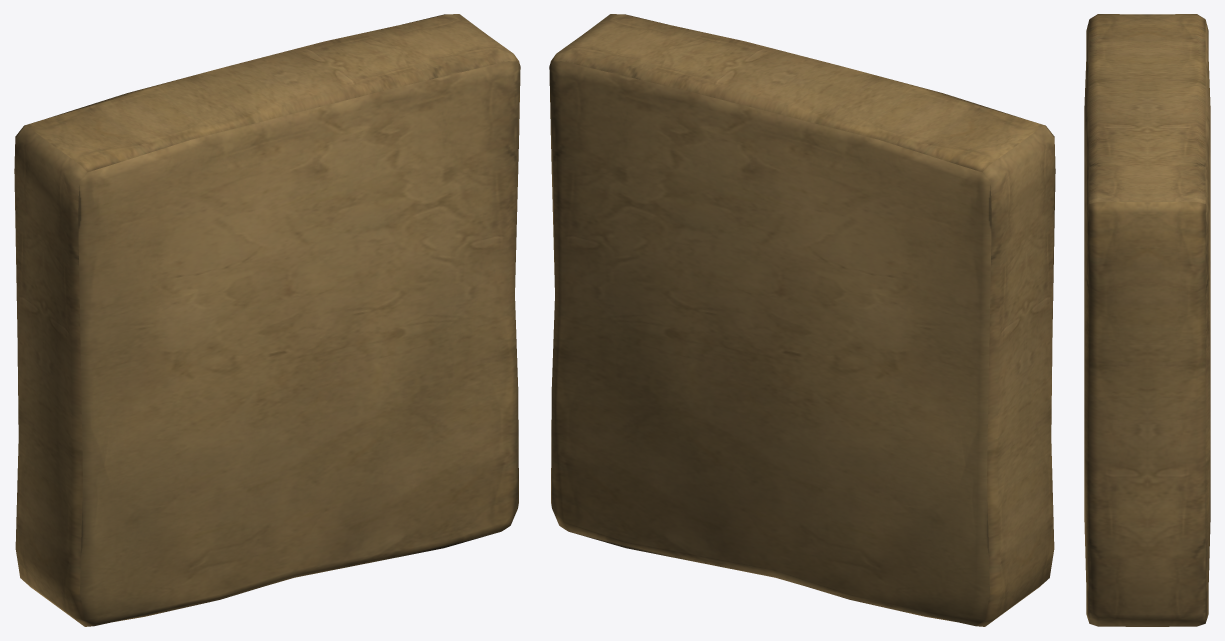
Rendered from m_StoneDoor.FBX.
3 views of the same model, side by side, from view 1: azimuth 30°, elevation 25°; view 2: azimuth 150°, elevation 25°; view 3: azimuth 270°, elevation 25° (orthographic). The views are drawn at different scales.
Visible parts, largest first — view 1: Base_Ceiling020; view 2: Base_Ceiling020; view 3: Base_Ceiling020.
Boxes of the visible parts, x1=… form: Base_Ceiling020: x1=14, y1=14, x2=520, y2=626; Base_Ceiling020: x1=549, y1=14, x2=1055, y2=626; Base_Ceiling020: x1=1084, y1=14, x2=1210, y2=626.
Bounding box in the file's own units: 100 × 26.71 × 103.
Materials: 1 (1 with a texture image).
